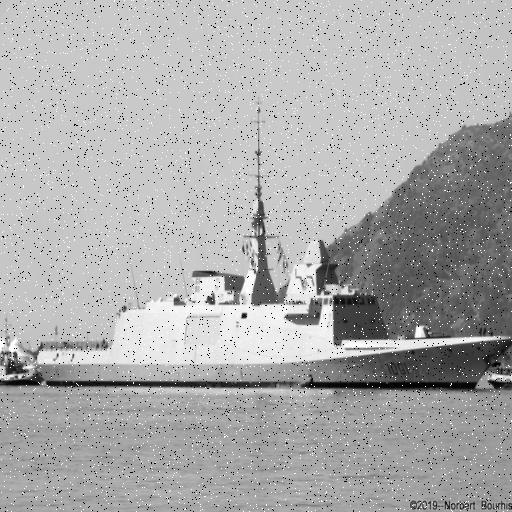Fragata: (34, 97, 512, 393)
